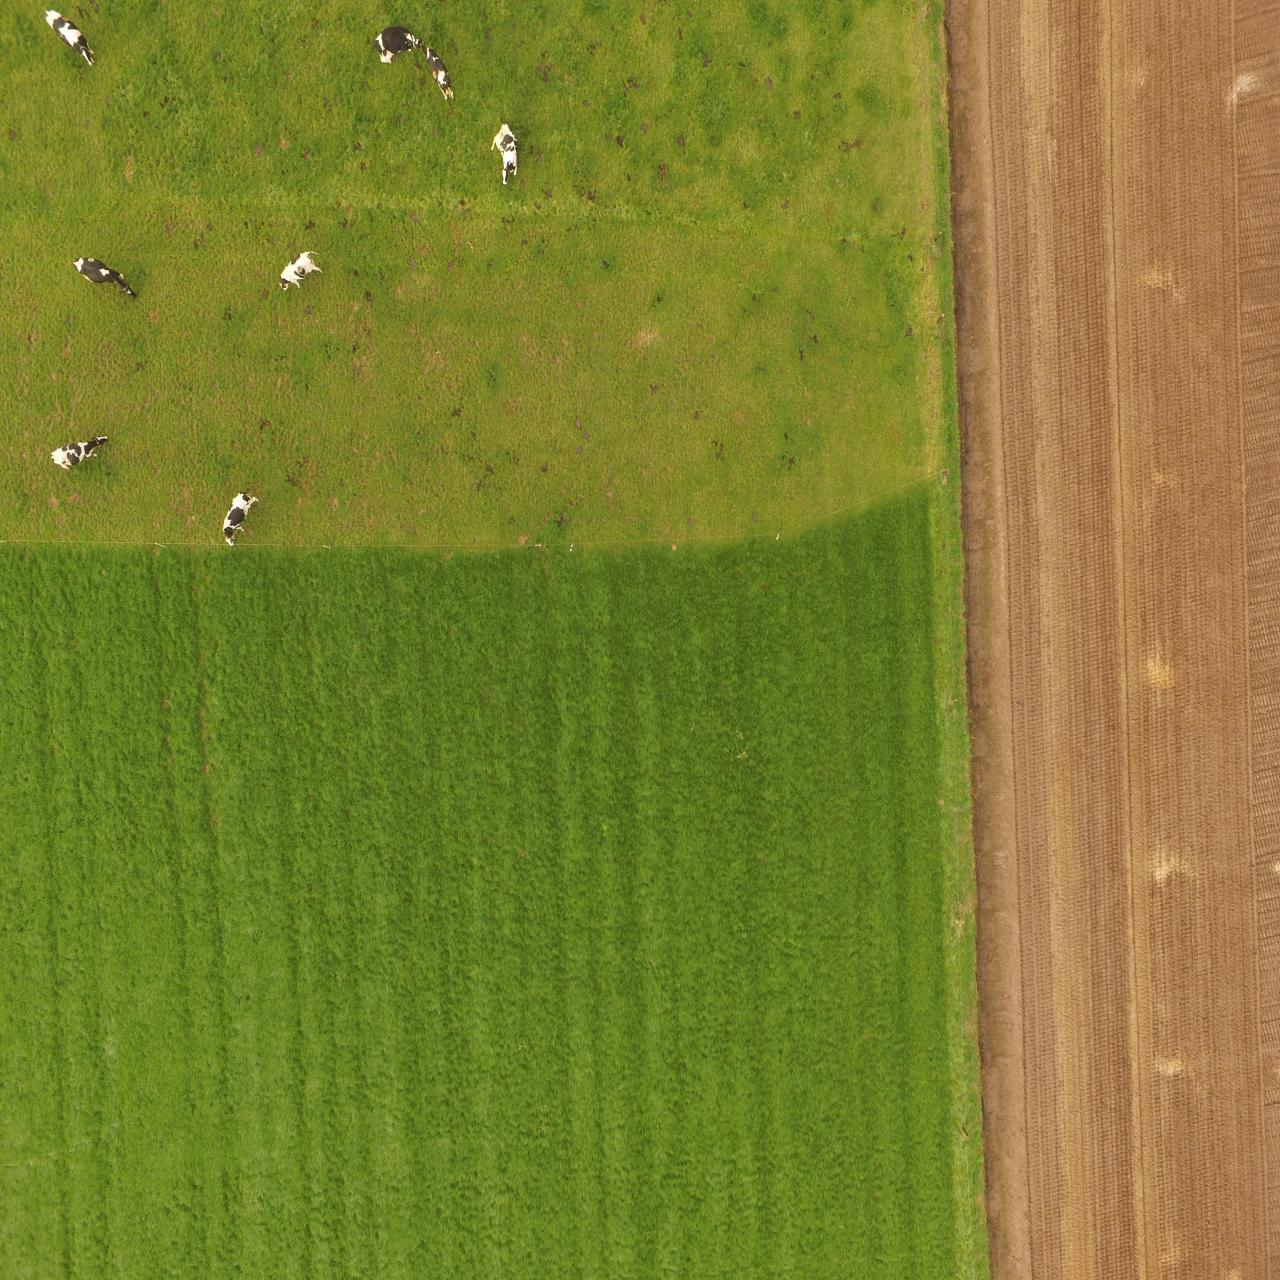cow: (370, 21, 457, 108), (39, 0, 97, 75), (69, 250, 137, 300), (48, 430, 109, 483), (218, 485, 260, 550), (275, 245, 324, 294), (489, 118, 520, 188)
